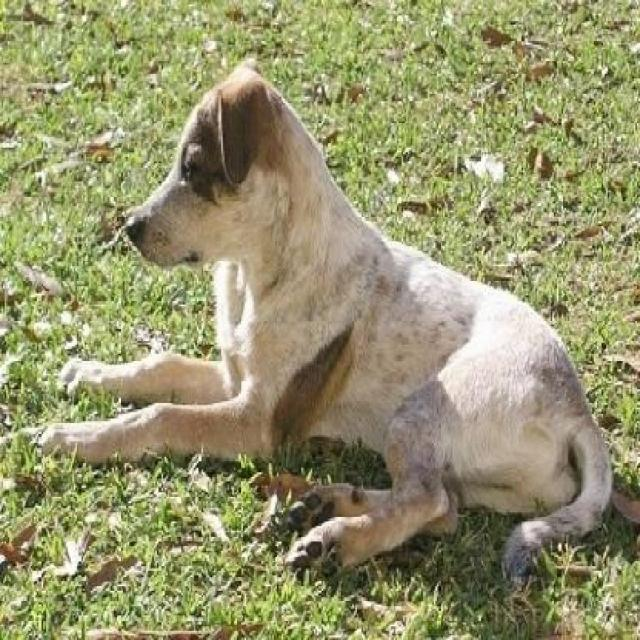animals: (46, 62, 616, 549)
